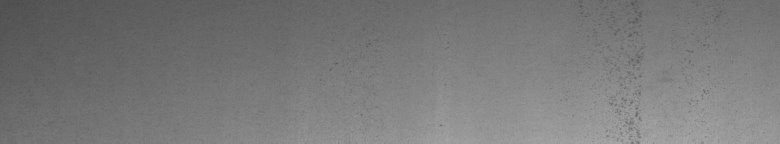ib: (609, 12, 709, 136)
